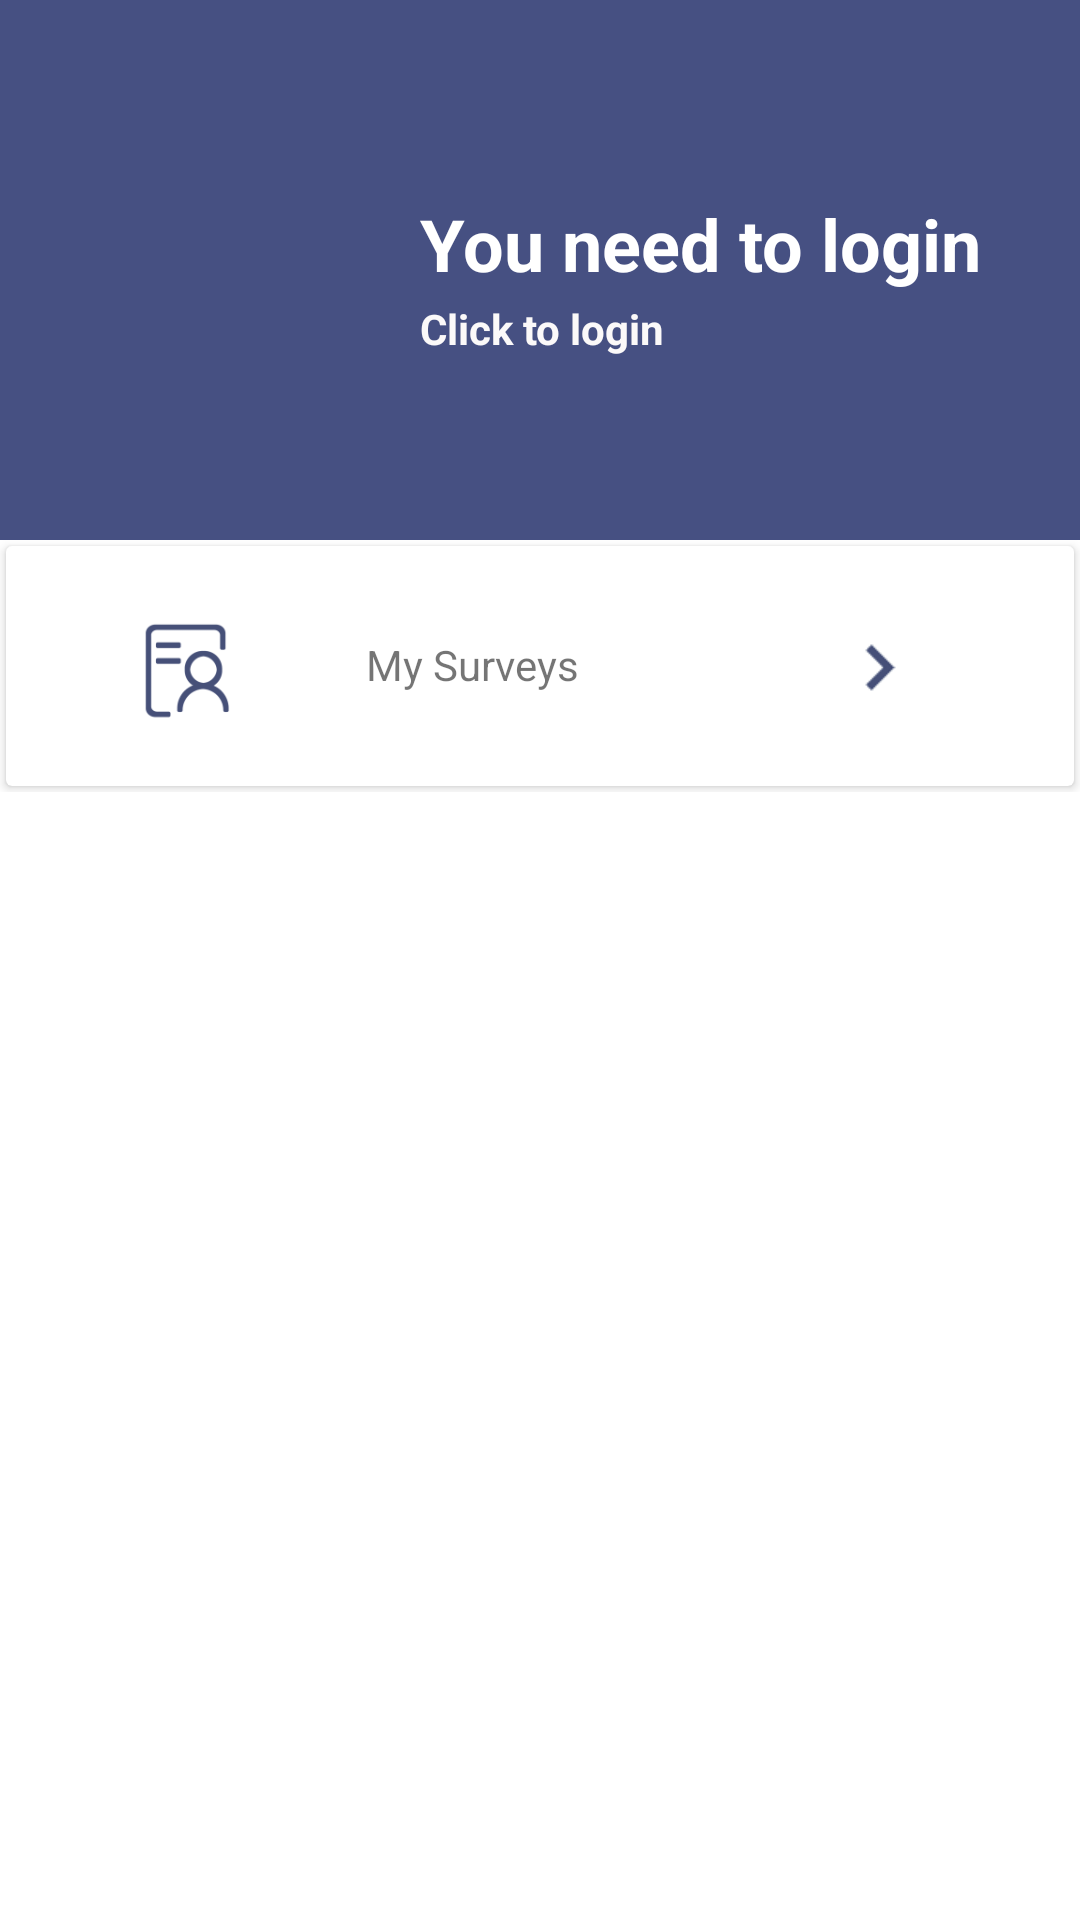

Named icons in this screenshot (1080px×1920px) and their bounding boxes, (x1, y1, x2, y2):
arrow: (865, 644, 896, 691)
